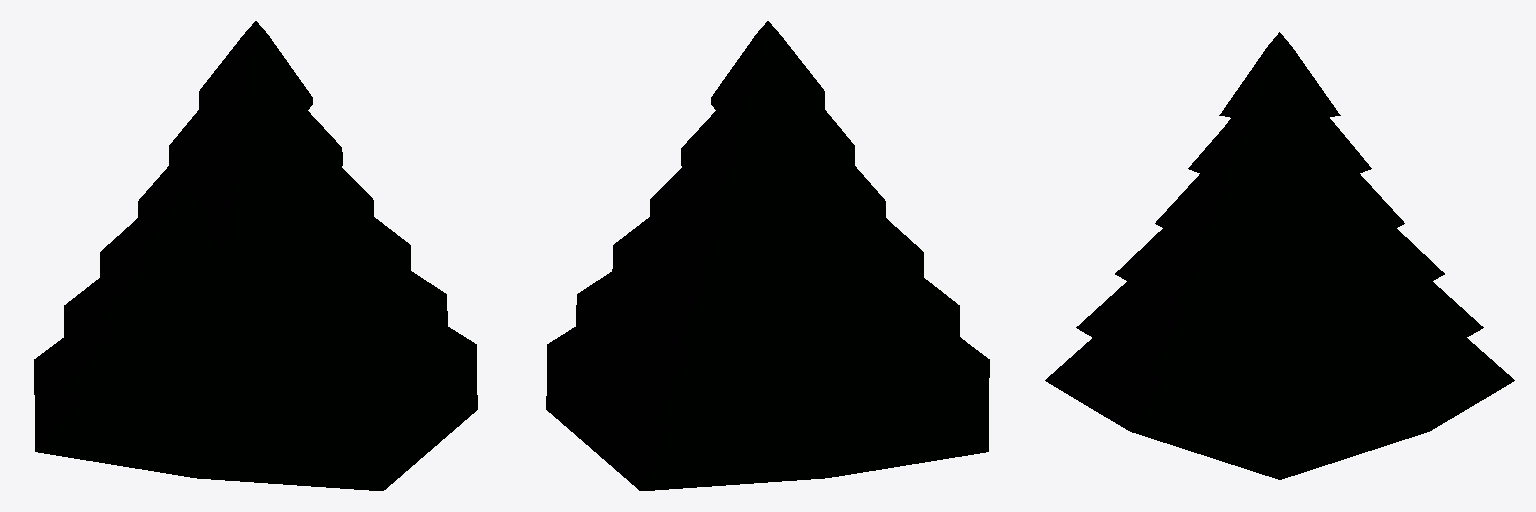
URDF robot description (tree1):
<?xml version="1.0"?>
  <robot name="tree1">

<link name="base_link">
     <visual>
       <!-- <origin xyz="-4 -3 0"/> -->
        <geometry>
        <mesh filename="package://world_model_description/meshes/tanne21.dae"/>
        </geometry>
     </visual> 
   
     <collision>
       <geometry>
	 <mesh filename="package://world_model_description/meshes/tanne21.dae"/>
       </geometry>
     </collision>

<!-- <collision>-->
      <!--<origin xyz="-4 -3 0"/> -->     
<!--       <geometry>
       <box size="1 1 2"/>
       </geometry>
 </collision>
<collision>
        <origin xyz="0 0 2.5"/>      
       <geometry>    
        <sphere radius="2"/>
       </geometry>
</collision>-->
 <inertial>
       <mass value="1" />
	<inertia ixx="1.0" ixy="0.0" ixz="0.0" iyy="1.0" iyz="0.0" izz="1.0" />
       </inertial>
</link>

   <gazebo>
     <static>true</static>
   </gazebo>

</robot>

--- Render facts (derived) ---
3 views of the same robot in one strip: view 1: azimuth 30°, elevation 25°; view 2: azimuth 150°, elevation 25°; view 3: azimuth 270°, elevation 25° (orthographic).
Model tree1 with 1 links and 0 joints (none), rooted at base_link, posed all joints at 0.
Links seen in each view (by area): view 1: base_link; view 2: base_link; view 3: base_link.
Boxes of the visible links, <box> form: base_link: <box>34,21,477,490</box>; base_link: <box>546,21,989,490</box>; base_link: <box>1045,32,1514,479</box>.
Size in the robot's own frame: 6.4 by 6.4 by 5.89 metres.
1 mesh visuals loaded from 1 distinct referenced files (1 Collada DAE).
